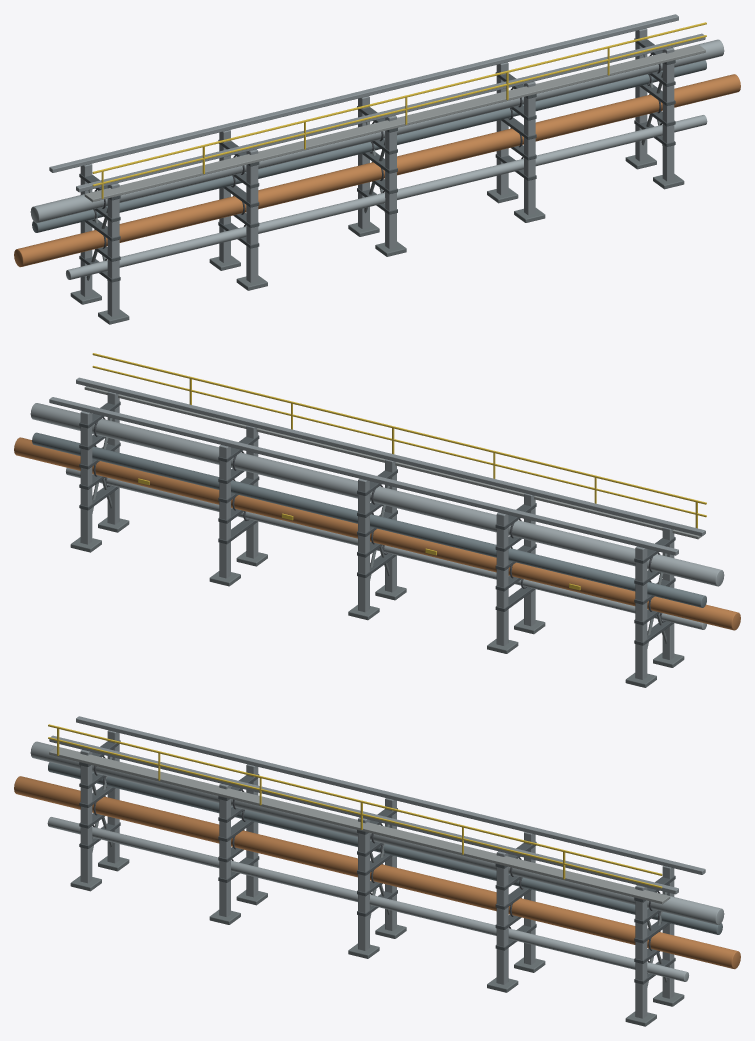
File: pipe-rack-mobile.glb
3 renders of one model, top to bottom at view 1: azimuth 30°, elevation 25°; view 2: azimuth 150°, elevation 25°; view 3: azimuth 330°, elevation 25°, orthographic.
Visible parts, largest first — view 1: PR_L2_TRUNK, PR_L1_TRUNK, PR_CABLE_TRAY, PR_L3_TRUNK, PR_L4_TRUNK, PR_TOP_BEAM_A, PR_TOP_BEAM_B, PR_SERVICE_RAIL_TOP, PR_SERVICE_RAIL_MID, PR_FRAME_4_POST_1, PR_FRAME_1_POST_1, PR_FRAME_0_POST_1 (+7 smaller); view 2: PR_L4_TRUNK, PR_L2_TRUNK, PR_L3_TRUNK, PR_TOP_BEAM_B, PR_TOP_BEAM_A, PR_L1_TRUNK, PR_CABLE_TRAY, PR_SERVICE_RAIL_TOP, PR_SERVICE_RAIL_MID, PR_FRAME_1_POST_0, PR_FRAME_4_POST_0, PR_FRAME_0_POST_0 (+7 smaller); view 3: PR_L2_TRUNK, PR_L1_TRUNK, PR_CABLE_TRAY, PR_L3_TRUNK, PR_L4_TRUNK, PR_TOP_BEAM_A, PR_TOP_BEAM_B, PR_SERVICE_RAIL_TOP, PR_SERVICE_RAIL_MID, PR_FRAME_0_POST_1, PR_FRAME_3_POST_1, PR_FRAME_4_POST_1 (+7 smaller).
Part boxes in pixels (box(x1,y1,x2,y2)): PR_L2_TRUNK: box(14, 74, 740, 267); PR_L1_TRUNK: box(66, 115, 707, 279); PR_CABLE_TRAY: box(84, 44, 705, 202); PR_L3_TRUNK: box(32, 60, 706, 232); PR_L4_TRUNK: box(30, 39, 724, 223); PR_TOP_BEAM_A: box(49, 14, 678, 172); PR_TOP_BEAM_B: box(76, 33, 705, 192); PR_SERVICE_RAIL_TOP: box(92, 22, 706, 173); PR_SERVICE_RAIL_MID: box(92, 35, 706, 186); PR_FRAME_4_POST_1: box(662, 47, 674, 181); PR_FRAME_1_POST_1: box(246, 149, 258, 282); PR_FRAME_0_POST_1: box(107, 183, 119, 316); PR_L4_TRUNK: box(30, 403, 724, 586); PR_L2_TRUNK: box(14, 437, 740, 630); PR_L3_TRUNK: box(32, 432, 706, 607); PR_TOP_BEAM_B: box(76, 377, 705, 536); PR_TOP_BEAM_A: box(49, 397, 678, 555); PR_L1_TRUNK: box(66, 468, 706, 629); PR_CABLE_TRAY: box(84, 386, 705, 539); PR_SERVICE_RAIL_TOP: box(92, 353, 706, 504); PR_SERVICE_RAIL_MID: box(92, 365, 706, 517); PR_FRAME_1_POST_0: box(496, 512, 508, 645); PR_FRAME_4_POST_0: box(80, 411, 92, 544); PR_FRAME_0_POST_0: box(635, 546, 647, 679); PR_L2_TRUNK: box(14, 776, 740, 969); PR_L1_TRUNK: box(47, 817, 688, 981); PR_CABLE_TRAY: box(49, 746, 670, 904); PR_L3_TRUNK: box(48, 762, 722, 934); PR_L4_TRUNK: box(30, 741, 724, 925); PR_TOP_BEAM_A: box(76, 716, 705, 874); PR_TOP_BEAM_B: box(49, 735, 678, 894); PR_SERVICE_RAIL_TOP: box(48, 724, 662, 875); PR_SERVICE_RAIL_MID: box(48, 737, 662, 888); PR_FRAME_0_POST_1: box(80, 749, 92, 883); PR_FRAME_3_POST_1: box(496, 851, 508, 984); PR_FRAME_4_POST_1: box(635, 885, 647, 1018).
Size of what is drawn, in the model's own units: 22 by 4.68 by 2.23.
